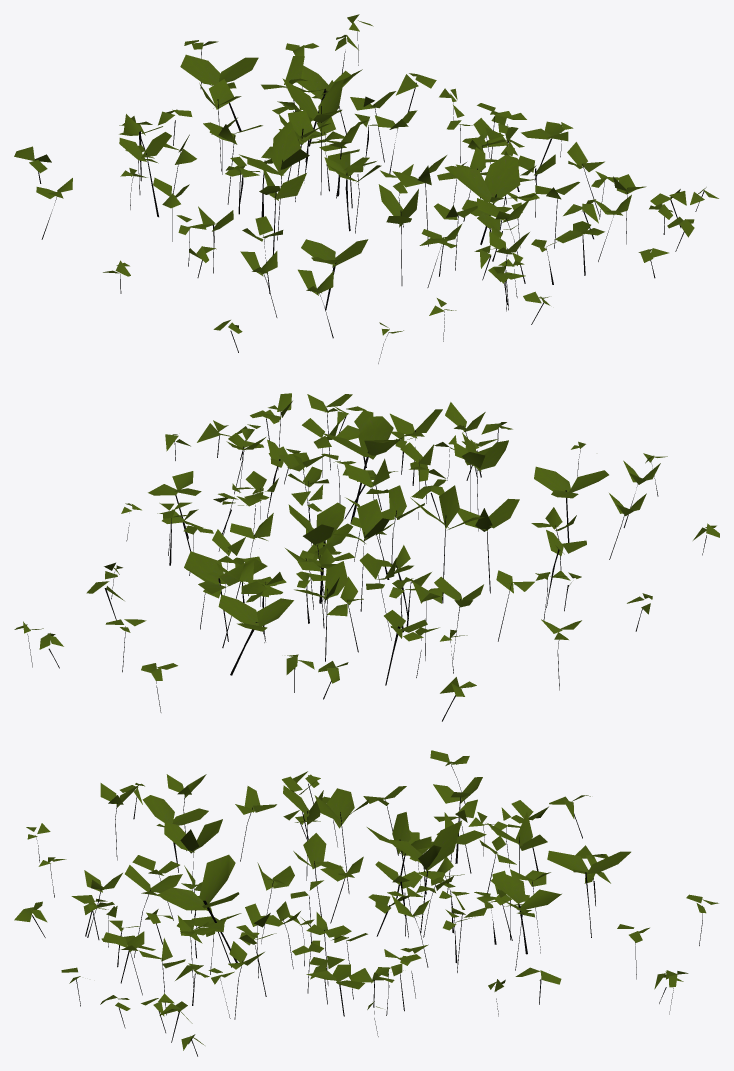
The model's file is clover.glb.
3 views of the same model, one above another, from view 1: azimuth 30°, elevation 25°; view 2: azimuth 150°, elevation 25°; view 3: azimuth 270°, elevation 25° (orthographic). The views are drawn at different scales.
Visible parts, largest first — view 1: GS Clovers 01; view 2: GS Clovers 01; view 3: GS Clovers 01.
Part boxes in pixels (x1,y1,x2,y2): GS Clovers 01: [14, 14, 718, 363]; GS Clovers 01: [14, 393, 719, 721]; GS Clovers 01: [14, 750, 718, 1056].
Bounding box in the file's own units: 0.3816 × 0.074 × 0.4319.
Materials: 1 (1 with a texture image).
